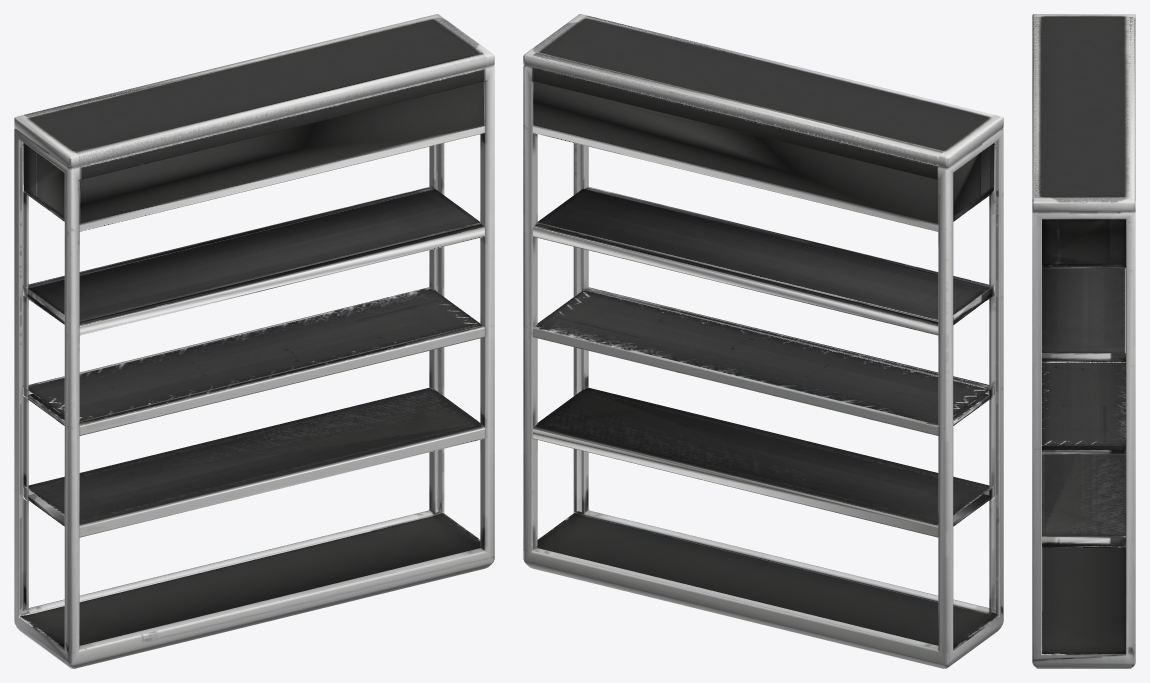
The model's file is metal_bookshelf_0127182657_texture.glb.
3 renders of one model, left to right at view 1: azimuth 30°, elevation 25°; view 2: azimuth 150°, elevation 25°; view 3: azimuth 270°, elevation 25°, orthographic. The views are drawn at different scales.
Parts seen in each view (by area): view 1: Mesh_0; view 2: Mesh_0; view 3: Mesh_0.
Part boxes in pixels (x1,y1,x2,y2): Mesh_0: (14,14,494,668); Mesh_0: (523,14,1003,668); Mesh_0: (1032,14,1135,668).
Size of the model in its own units: 1.58 by 1.83 by 0.3643.
1 material, 1 textured.
